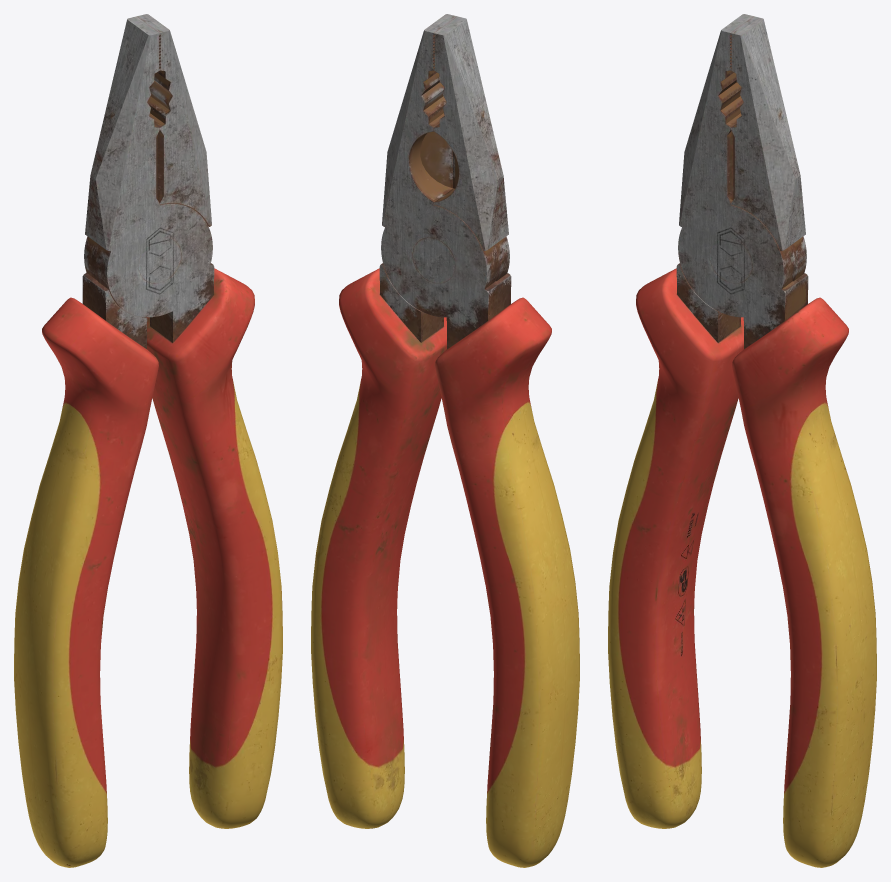
Rendered from pliers.glb.
3 views of the same model, side by side, from view 1: azimuth 30°, elevation 25°; view 2: azimuth 150°, elevation 25°; view 3: azimuth 330°, elevation 25° (orthographic).
Parts seen in each view (by area): view 1: pliers_b; view 2: pliers_b; view 3: pliers_b.
Part boxes in pixels (x1,y1,x2,y2): pliers_b: (14,14,282,867); pliers_b: (311,14,579,867); pliers_b: (608,14,876,867).
Size of the model in its own units: 0.0553 by 0.1798 by 0.018.
Materials: 1 (1 with a texture image).
